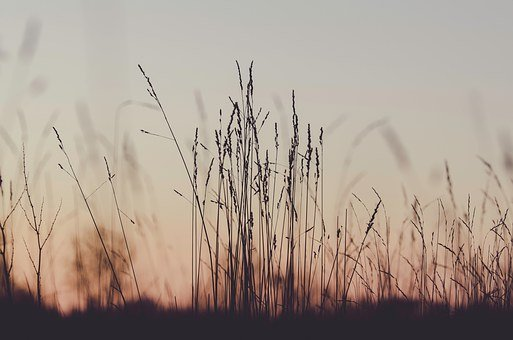field: (6, 18, 513, 338)
